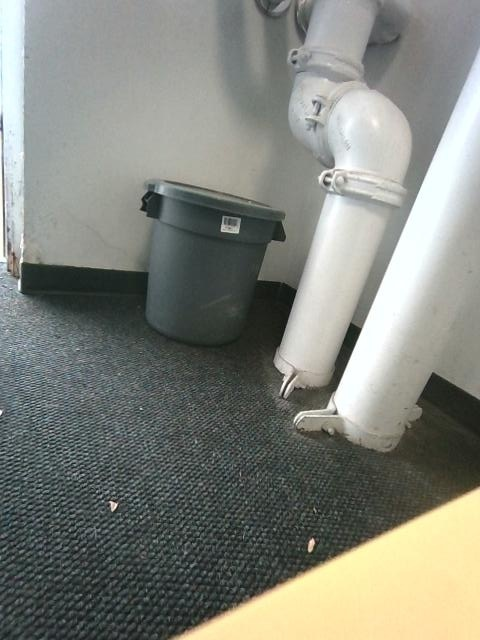ball: (274, 0, 411, 397), (141, 180, 284, 344)
